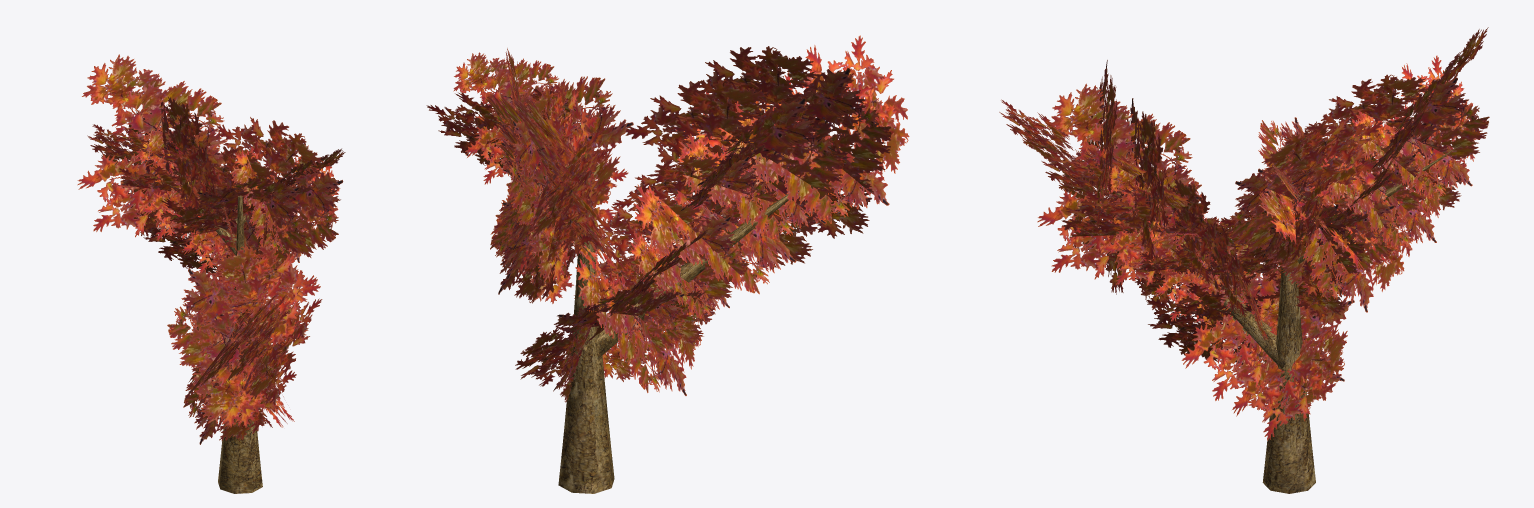
The model's file is Tree05.FBX.
The picture shows the model from 3 angles, left to right: view 1: azimuth 30°, elevation 25°; view 2: azimuth 150°, elevation 25°; view 3: azimuth 270°, elevation 25°; orthographic projection. The views are drawn at different scales.
Parts seen in each view (by area): view 1: Plane15, Plane27, Plane30, Plane33, Plane25, Plane29, Cylinder01, Plane10, Plane31, Plane12, Plane04, Plane20 (+7 smaller); view 2: Plane12, Plane15, Plane16, Cylinder01, Plane10, Plane25, Plane06, Plane04, Plane32, Plane27, Plane01, Plane09 (+14 smaller); view 3: Plane14, Plane30, Plane25, Plane01, Cylinder01, Plane05, Plane26, Plane23, Plane11, Plane20, Plane04, Plane12 (+18 smaller).
Boxes of the visible parts, x1,y1,x2,y2 form: Plane15: [167, 245, 320, 427]; Plane27: [77, 54, 235, 237]; Plane30: [217, 117, 343, 268]; Plane33: [180, 146, 307, 286]; Plane25: [127, 97, 217, 237]; Plane29: [173, 178, 340, 247]; Cylinder01: [218, 195, 262, 493]; Plane10: [198, 286, 322, 407]; Plane31: [230, 145, 340, 262]; Plane12: [186, 245, 317, 427]; Plane04: [183, 322, 296, 444]; Plane20: [134, 190, 278, 273]; Plane12: [625, 79, 845, 268]; Plane15: [680, 46, 891, 238]; Plane16: [718, 35, 909, 223]; Cylinder01: [558, 182, 614, 493]; Plane10: [634, 91, 796, 294]; Plane25: [506, 82, 597, 283]; Plane06: [596, 196, 749, 346]; Plane04: [575, 229, 701, 395]; Plane32: [453, 52, 568, 184]; Plane27: [485, 94, 626, 270]; Plane01: [515, 288, 705, 386]; Plane09: [612, 154, 776, 279]; Plane14: [1037, 83, 1202, 279]; Plane30: [1225, 115, 1383, 277]; Plane25: [1304, 74, 1489, 216]; Plane01: [1194, 278, 1354, 440]; Cylinder01: [1262, 155, 1315, 493]; Plane05: [1153, 243, 1304, 400]; Plane26: [1350, 55, 1479, 200]; Plane23: [1320, 104, 1442, 252]; Plane11: [1101, 155, 1208, 286]; Plane20: [1286, 160, 1413, 312]; Plane04: [1146, 273, 1312, 364]; Plane12: [1105, 98, 1168, 294].
Size of the model in its own units: 253 by 311 by 333.
Materials: 2 (2 with a texture image).
